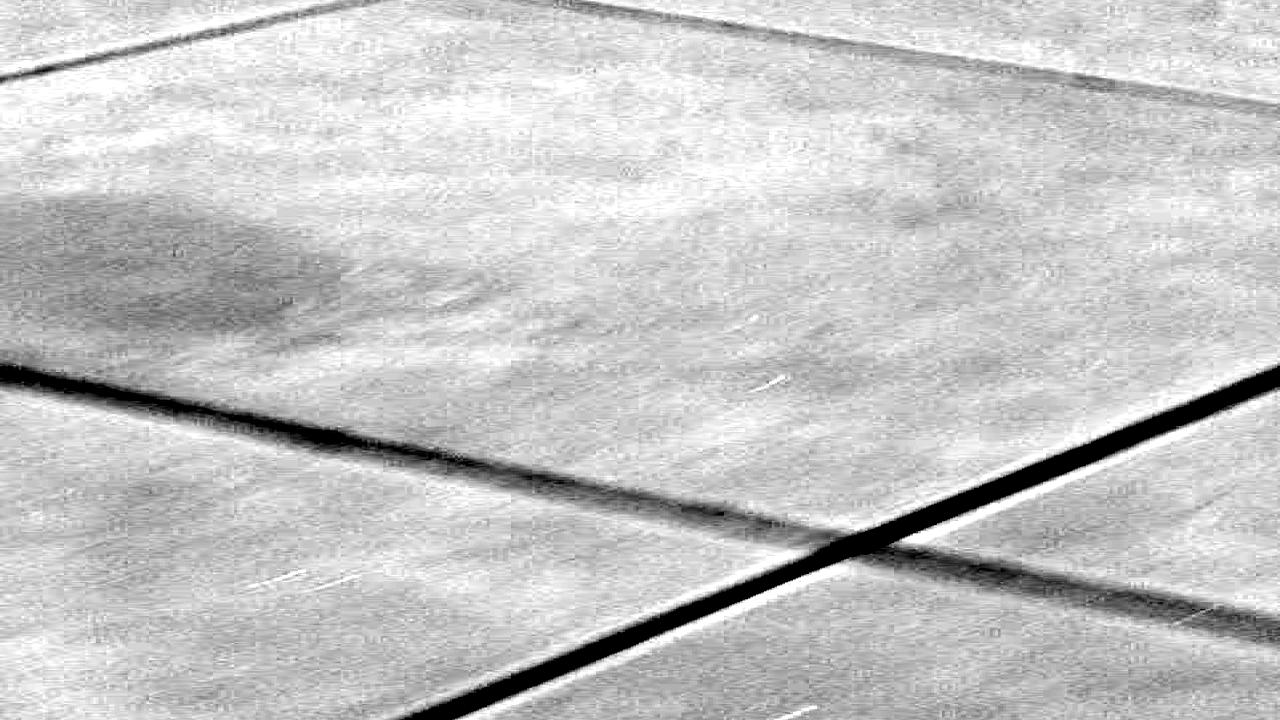Water Stains: (0, 182, 365, 352)
